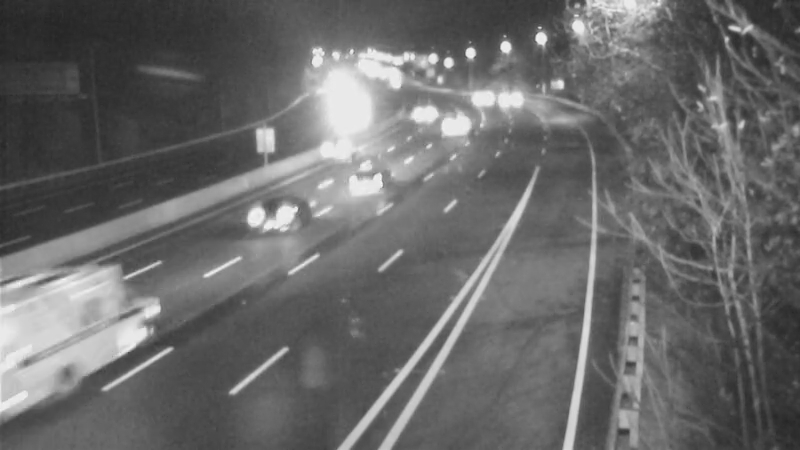vehicle: (2, 280, 112, 390), (325, 147, 405, 227), (231, 187, 311, 267), (451, 72, 501, 122), (486, 72, 536, 122), (394, 91, 444, 141), (428, 94, 478, 144), (315, 121, 365, 171)
